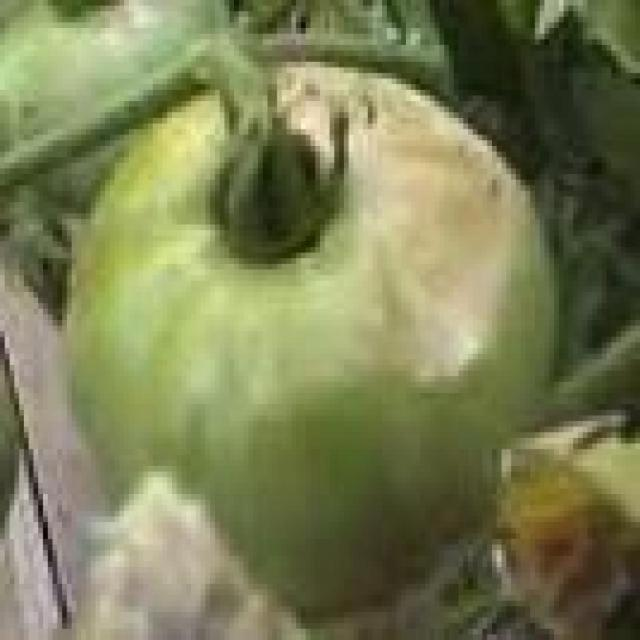Sunscald Fruit: (188, 45, 350, 270)
